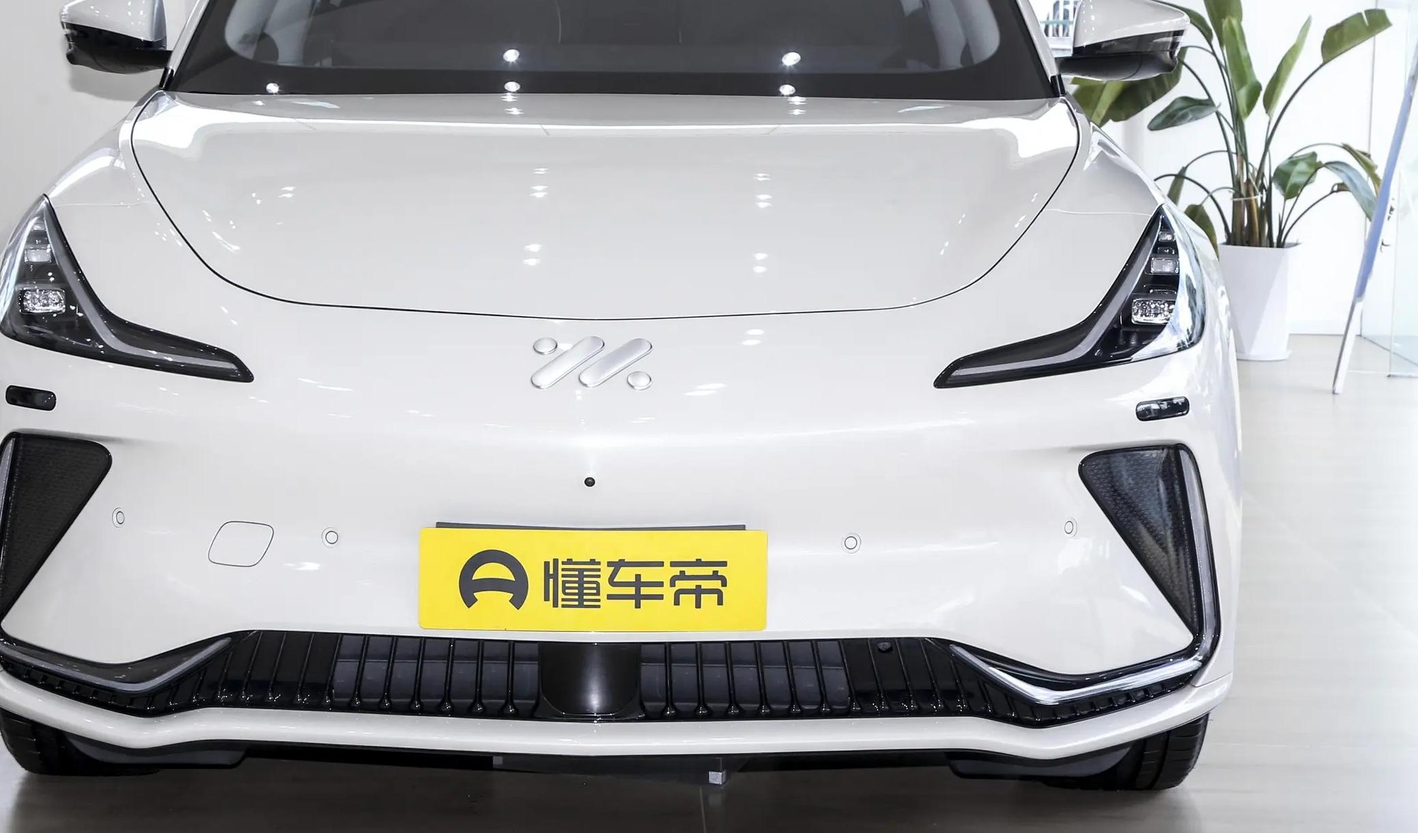IM: (532, 337, 651, 389)
